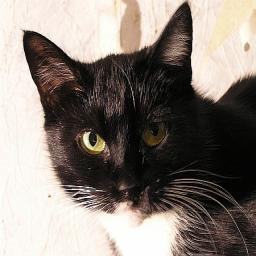catnose: (113, 169, 140, 199)
